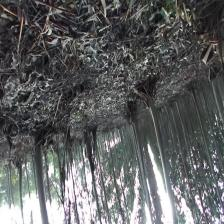trunk: (148, 97, 174, 198), (133, 114, 149, 196), (35, 146, 48, 219), (18, 166, 23, 216)
